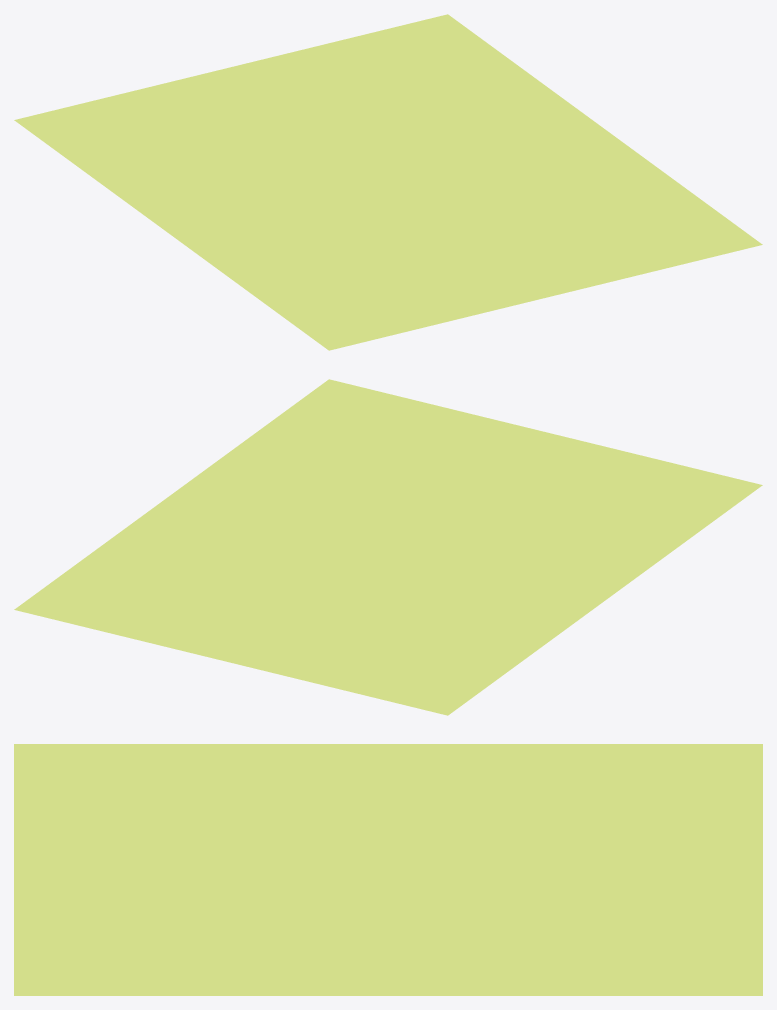
File: suelo.FBX
The picture shows the model from 3 angles, top to bottom: view 1: azimuth 30°, elevation 25°; view 2: azimuth 150°, elevation 25°; view 3: azimuth 270°, elevation 25°; orthographic projection. The views are drawn at different scales.
Visible parts, largest first — view 1: suelo_low; view 2: suelo_low; view 3: suelo_low.
Part boxes in pixels (left/top/right/bottom): suelo_low: left=14, top=14, right=762, bottom=350; suelo_low: left=14, top=379, right=762, bottom=715; suelo_low: left=14, top=744, right=762, bottom=995.
Size of the model in its own units: 146 by 1.12e-14 by 183.
